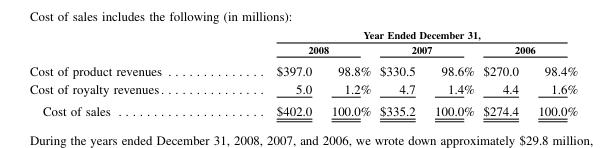table: (28, 28, 577, 117)
table column: (28, 28, 219, 117), (219, 28, 320, 117), (320, 28, 374, 117), (424, 28, 478, 117), (374, 28, 424, 117), (527, 28, 577, 117), (478, 28, 527, 117)
table column header: (28, 28, 577, 79)
table row: (28, 58, 577, 79), (28, 79, 577, 99), (28, 99, 577, 117), (28, 41, 577, 58), (28, 28, 577, 41)
table spanning cell: (28, 28, 219, 79), (219, 28, 577, 41), (219, 41, 374, 58), (374, 41, 478, 58), (478, 41, 577, 58)
